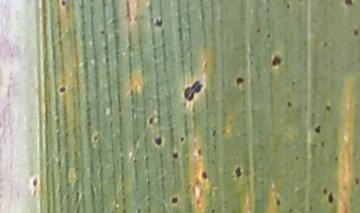tarspot: (182, 77, 207, 102), (232, 162, 244, 183), (150, 133, 166, 148), (270, 53, 284, 70), (150, 15, 165, 28), (146, 113, 158, 129), (56, 82, 69, 96), (233, 74, 246, 88), (198, 167, 211, 181), (29, 176, 41, 190), (311, 122, 323, 134), (170, 150, 181, 162), (169, 193, 180, 205), (272, 197, 283, 208), (284, 97, 294, 109), (323, 102, 333, 114), (351, 25, 360, 38), (327, 190, 334, 205), (344, 1, 355, 10), (177, 134, 186, 145)
